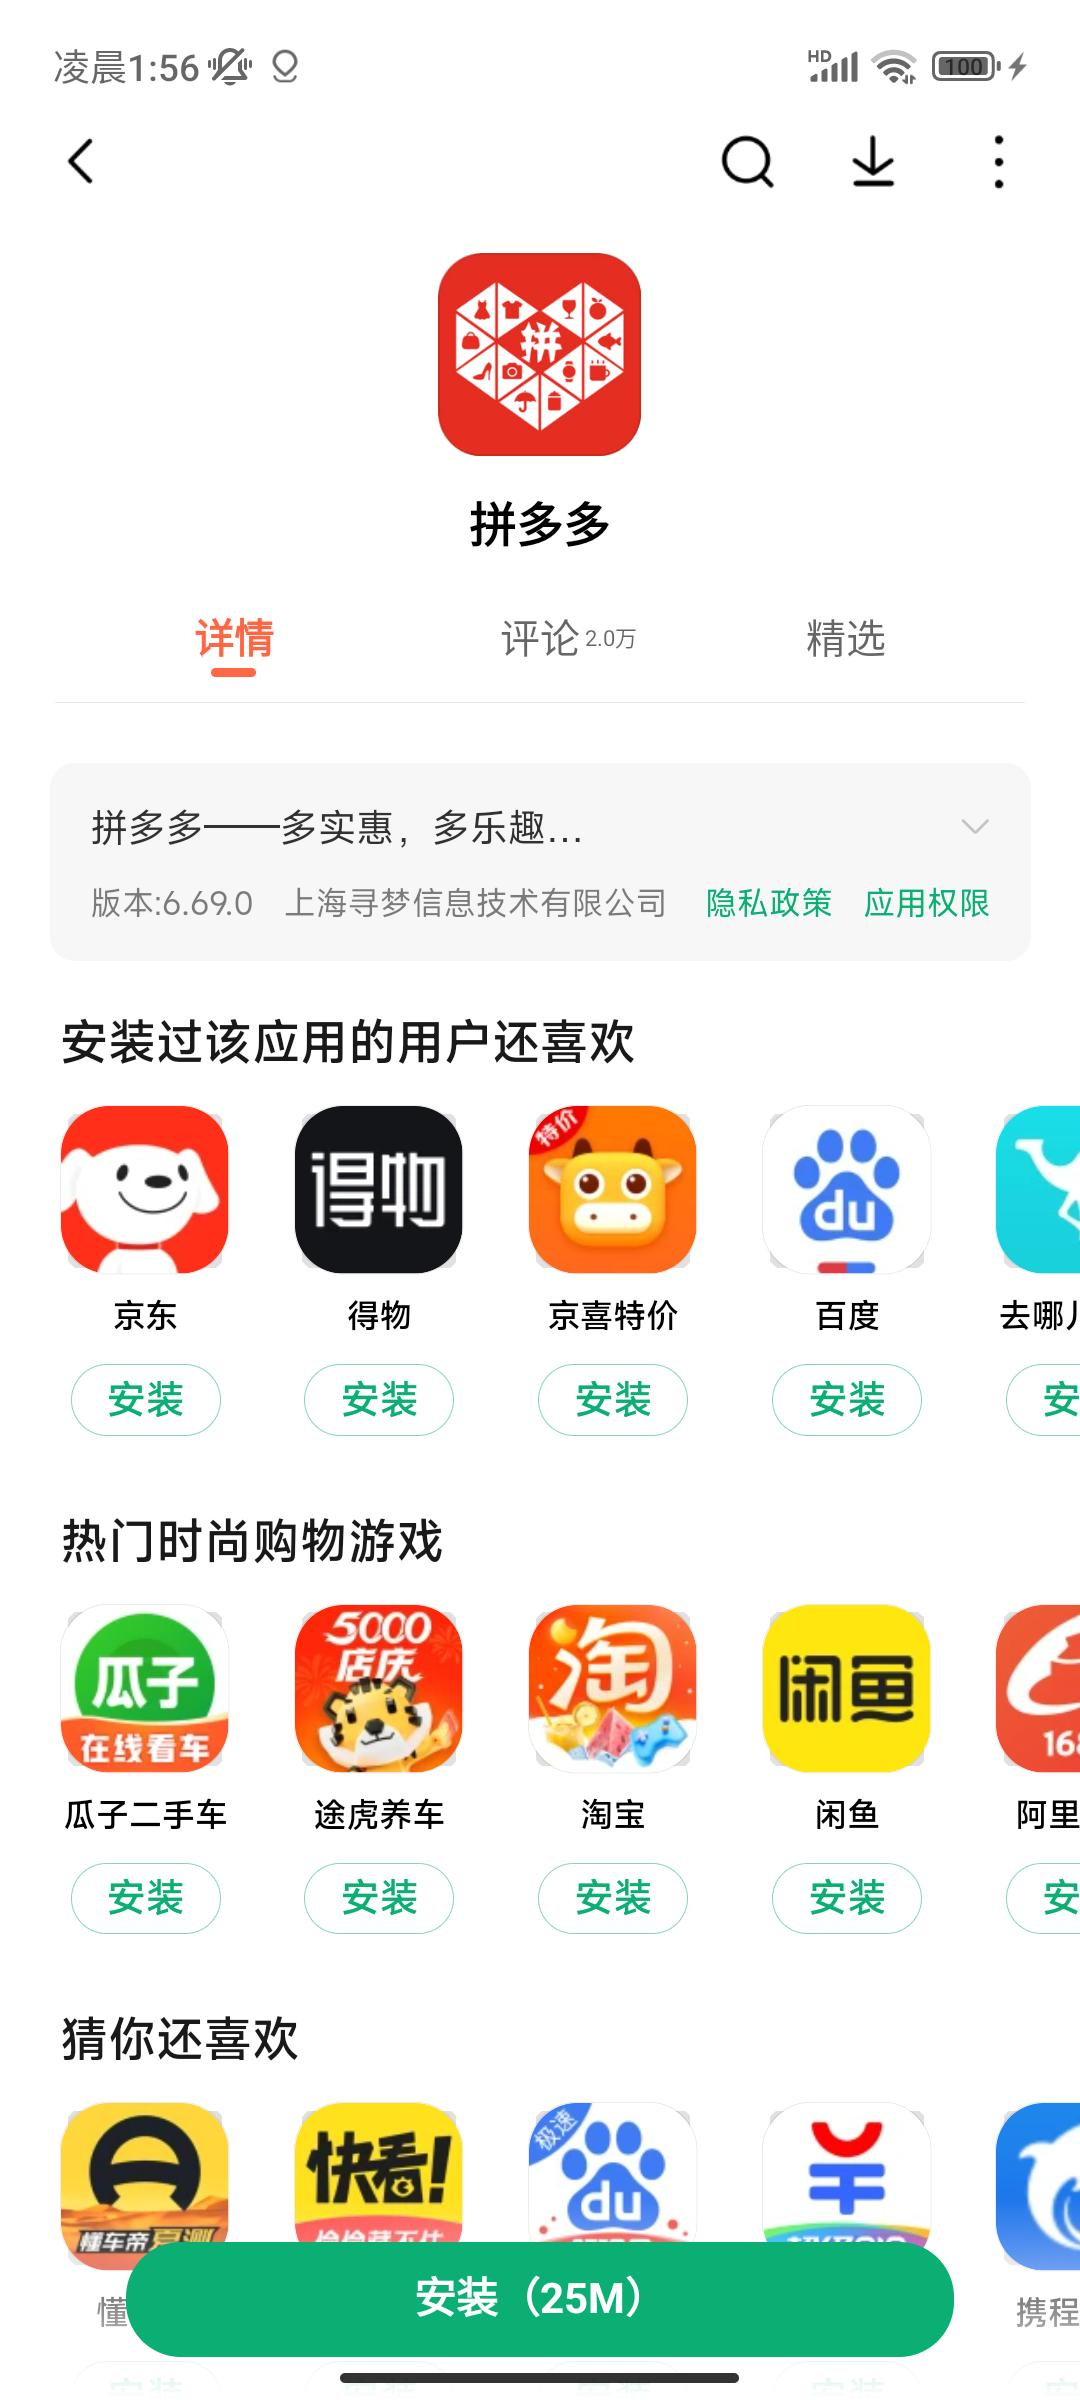ui_group: (750, 1088, 968, 1454), (37, 1090, 257, 1443), (745, 1592, 947, 1974), (512, 1084, 717, 1454), (519, 1593, 721, 1962), (41, 1599, 255, 1945), (277, 1090, 479, 1449), (288, 1592, 483, 1956)
